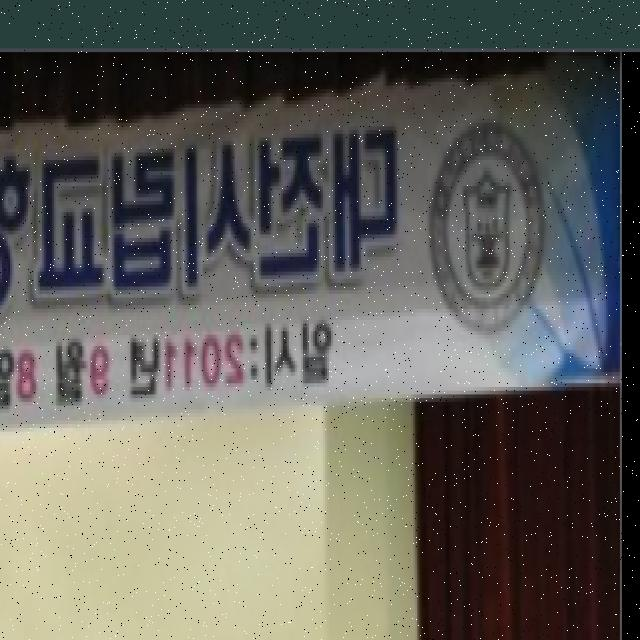logo: (424, 109, 548, 346)
